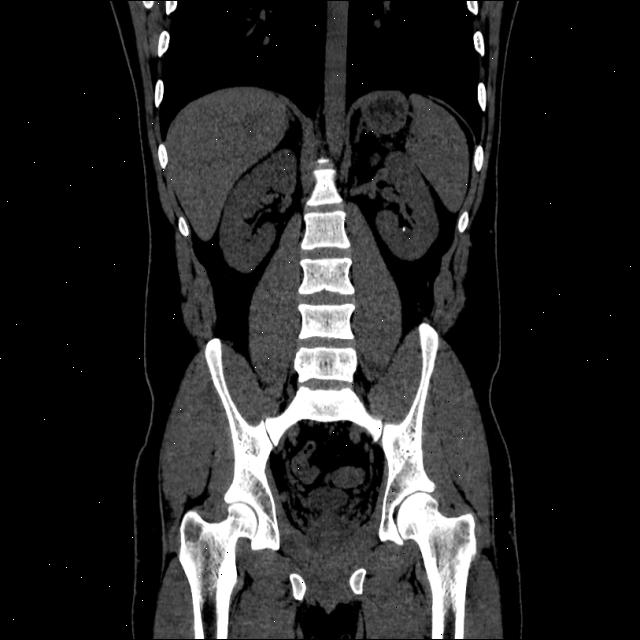kidneystone: (402, 226, 406, 233)
